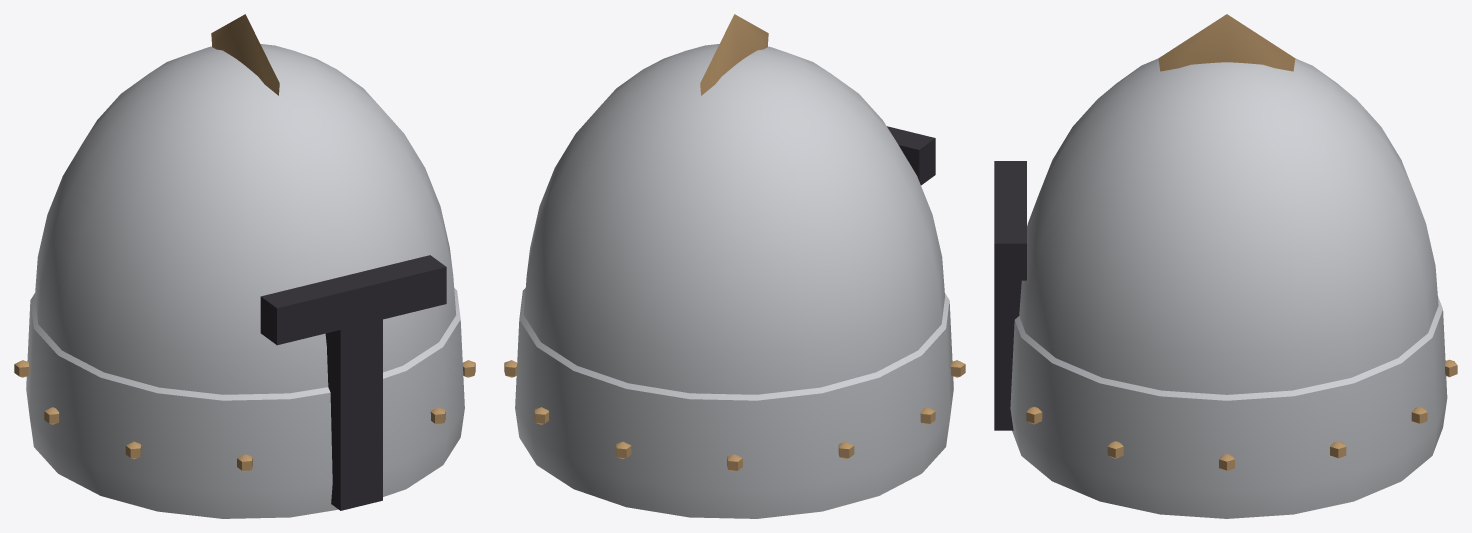
The model's file is barbute_helm.glb.
3 renders of one model, left to right at view 1: azimuth 30°, elevation 25°; view 2: azimuth 150°, elevation 25°; view 3: azimuth 270°, elevation 25°, orthographic.
Visible parts, largest first — view 1: barbute_helm; view 2: barbute_helm; view 3: barbute_helm.
Part boxes in pixels (bbox=[...]): barbute_helm: bbox=[14, 14, 475, 518]; barbute_helm: bbox=[504, 14, 965, 518]; barbute_helm: bbox=[994, 14, 1457, 518].
Size of the model in its own units: 0.2824 by 0.28 by 0.284.
